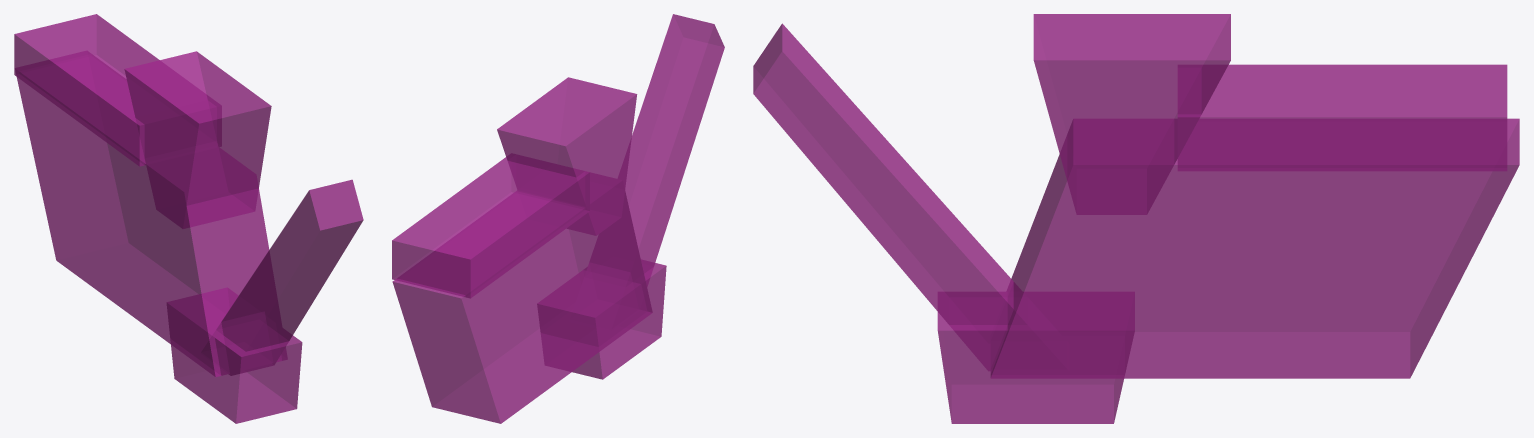
File: SM_Veh_E_Bike_01_Collision.fbx
3 renders of one model, left to right at view 1: azimuth 30°, elevation 25°; view 2: azimuth 150°, elevation 25°; view 3: azimuth 270°, elevation 25°, orthographic. The views are drawn at different scales.
Visible parts, largest first — view 1: SM_Veh_E_Bike_01_Collision; view 2: SM_Veh_E_Bike_01_Collision; view 3: SM_Veh_E_Bike_01_Collision.
Boxes of the visible parts, <box> form: SM_Veh_E_Bike_01_Collision: <box>14,14,363,423</box>; SM_Veh_E_Bike_01_Collision: <box>392,14,724,423</box>; SM_Veh_E_Bike_01_Collision: <box>753,14,1519,423</box>.
Bounding box in the file's own units: 22.86 × 73.88 × 140.
